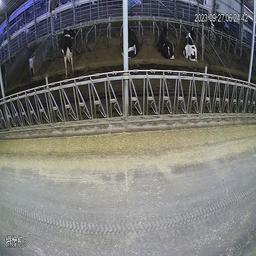cow: (57, 29, 77, 77), (157, 23, 176, 60), (183, 26, 200, 63), (127, 23, 140, 58)
